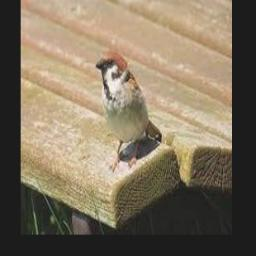Sparrow: (96, 52, 162, 171)
